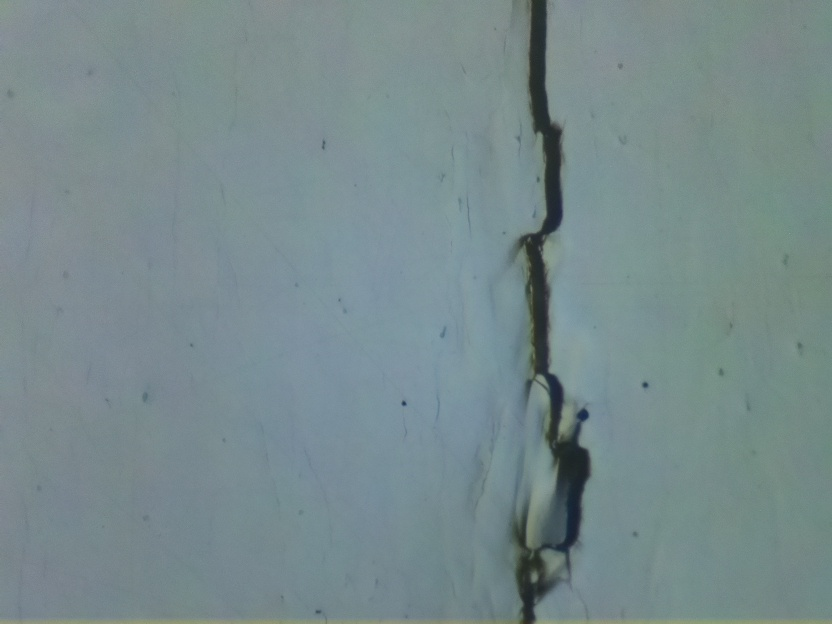crack: (508, 0, 593, 624)
